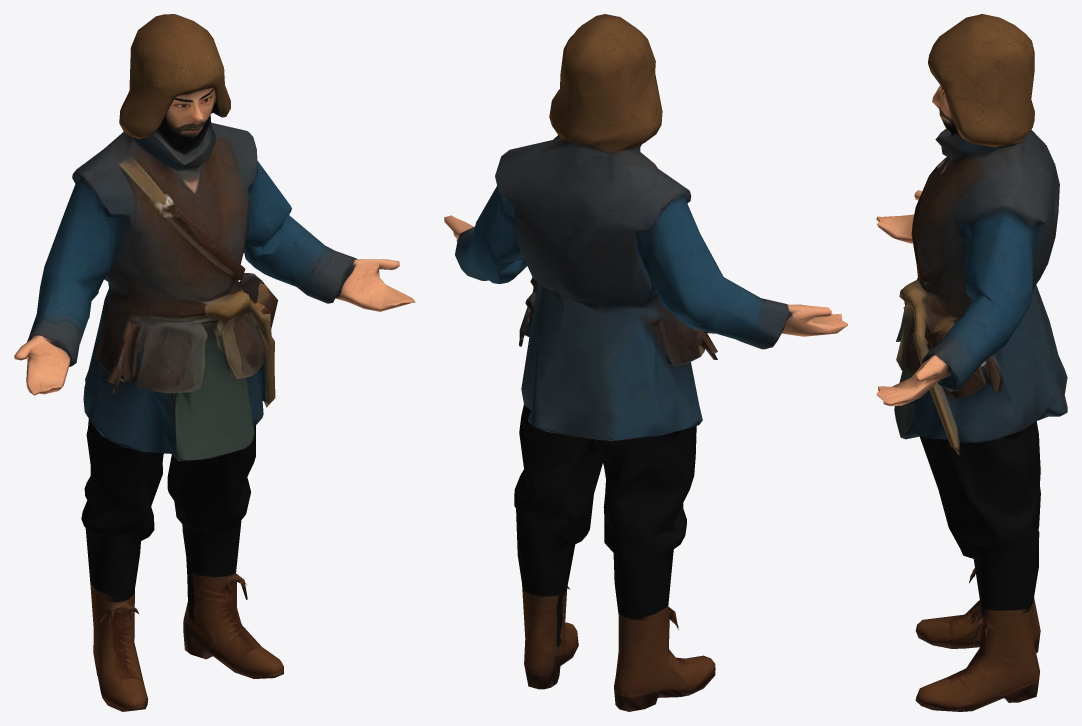
The model's file is unit_NG_CUNG.glb.
3 views of the same model, side by side, from view 1: azimuth 30°, elevation 25°; view 2: azimuth 150°, elevation 25°; view 3: azimuth 270°, elevation 25° (orthographic).
Bounding box in the file's own units: 1.16 × 1.9 × 0.5013.
1 material, 1 textured.
